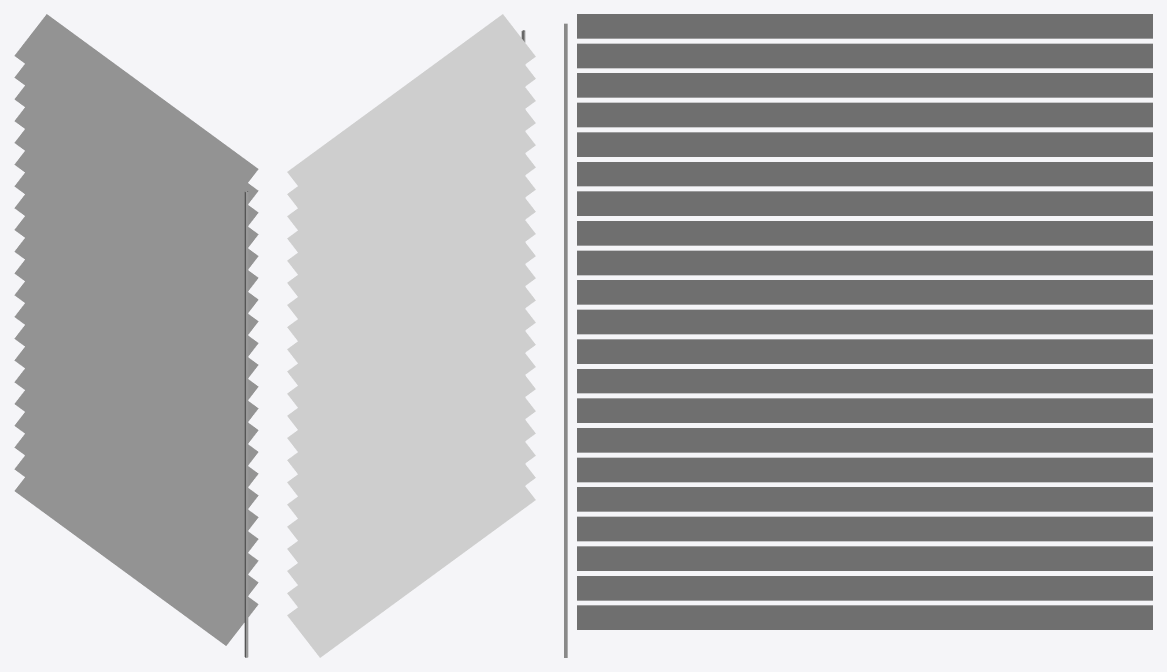
The model's file is pj_01_blind_45.FBX.
The picture shows the model from 3 angles, left to right: view 1: azimuth 30°, elevation 25°; view 2: azimuth 150°, elevation 25°; view 3: azimuth 270°, elevation 25°; orthographic projection. The views are drawn at different scales.
Parts seen in each view (by area): view 1: 45; view 2: 45; view 3: 45.
Boxes of the visible parts, bbox=[...] form: 45: bbox=[14, 14, 258, 657]; 45: bbox=[287, 14, 535, 657]; 45: bbox=[564, 14, 1152, 657].
Bounding box in the file's own units: 7.07 × 100 × 81.79.
